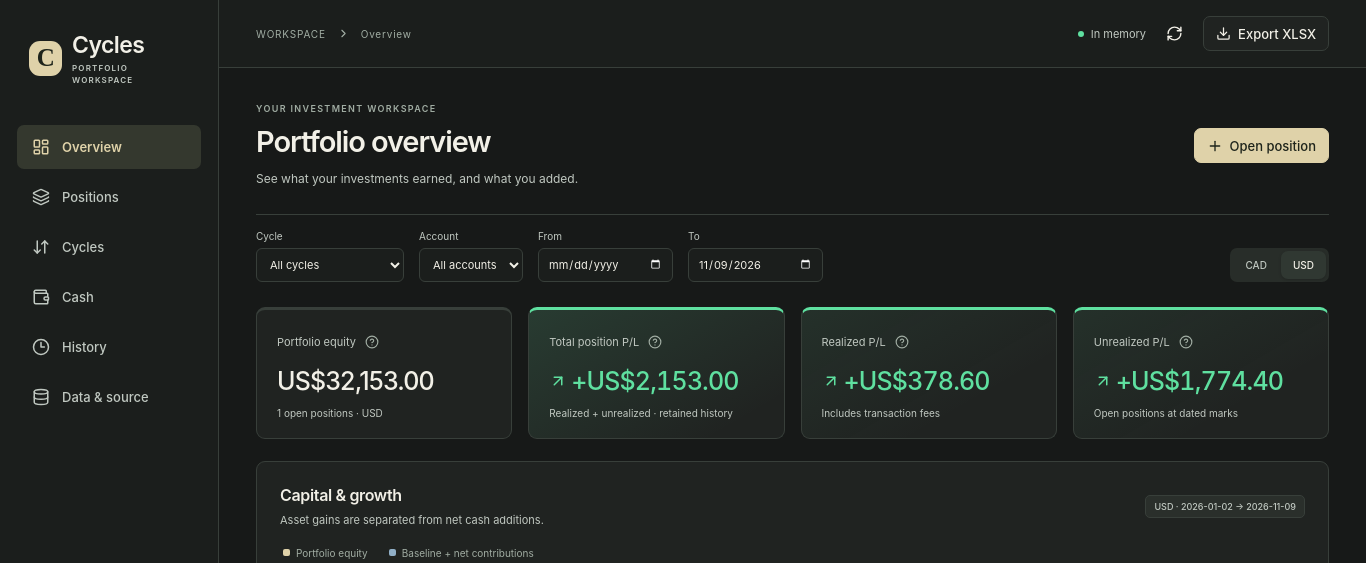
Test: switches Positions between CAD and USD native-currency rows
The image size is (1366, 563).
Expected: the heading "Portfolio overview" is shown, [256,124,490,159]
Click the button "Positions": (109, 197) [17,175,201,219]
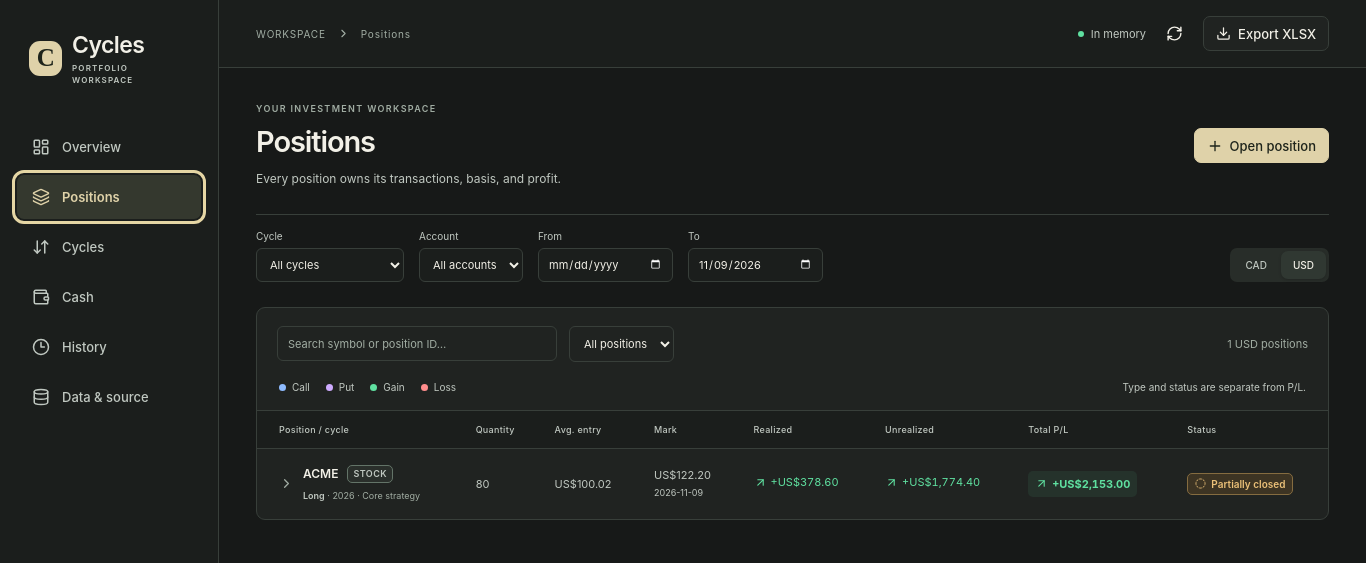
Click the button "CAD": (1256, 265) [1234,251,1279,279]
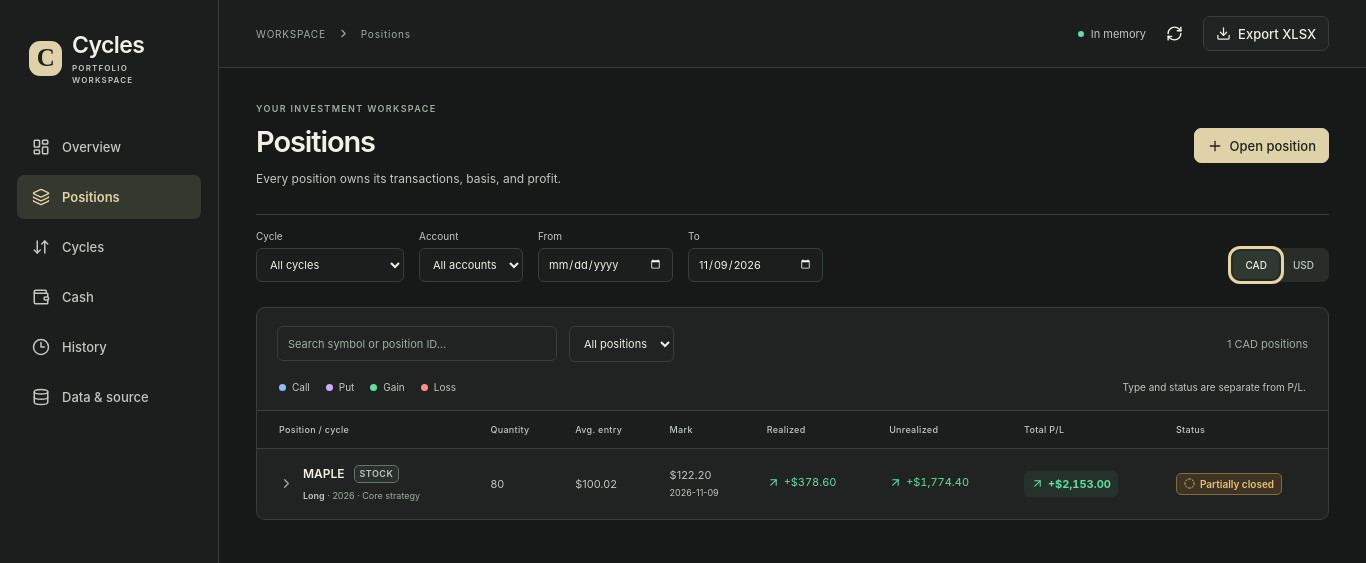
Expected: the button "ACME" is gone
Expected: the button "MAPLE Stock Long · 2026 · Core strategy" is shown, [279,465,420,503]
Expected: the text "1 CAD positions" is shown, [1227,337,1308,351]
Click the button "USD": (1303, 265) [1281,251,1326,279]
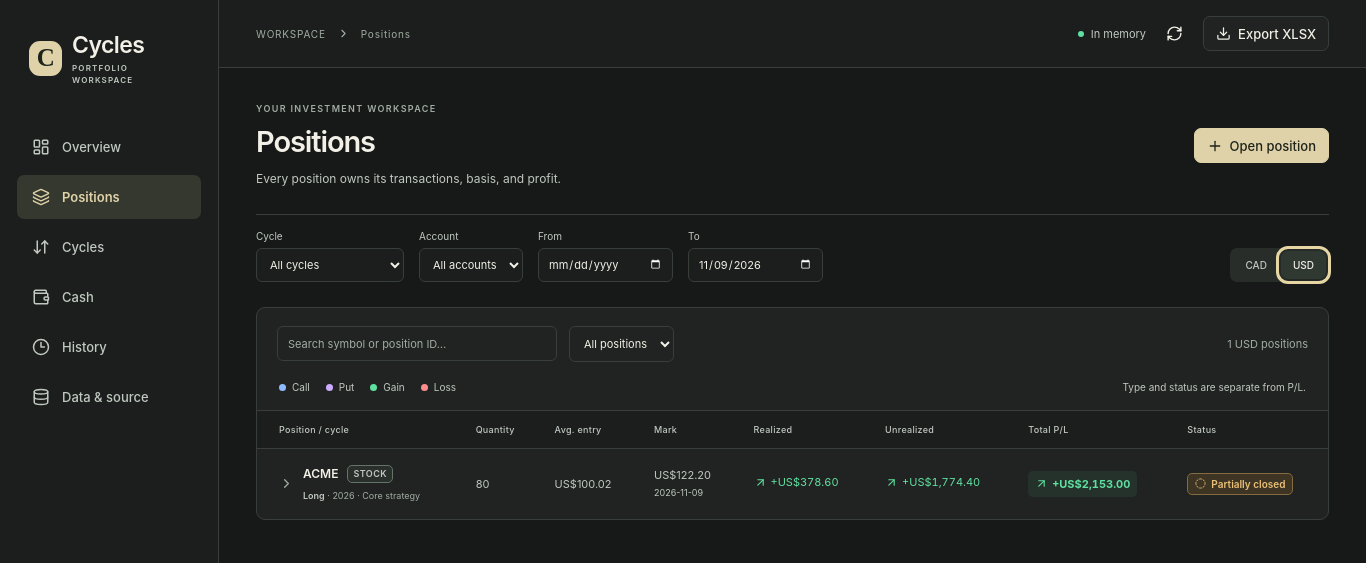
Expected: the button "ACME Stock Long · 2026 · Core strategy" is shown, [279,465,420,503]
Expected: the button "MAPLE" is gone
Expected: the text "1 USD positions" is shown, [1227,337,1308,351]
